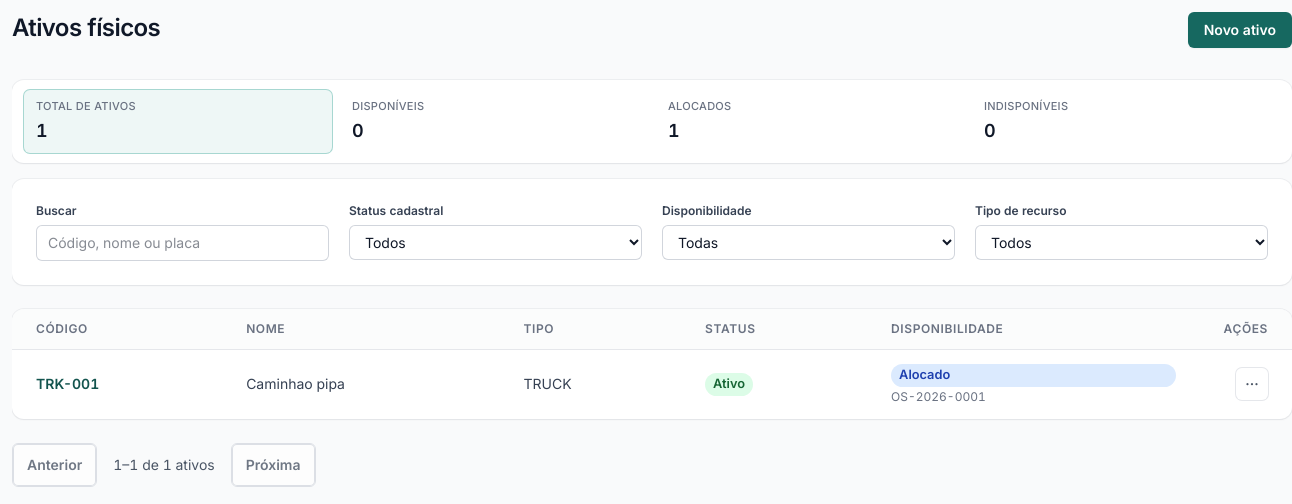
it: PhysicalAssetsListPage › shows filtered empty state after applying availability filter
Expected: the link "TRK-001" is shown, top-left (36, 375), bottom-right (99, 392)
Select "Indisponível" in the dropdown labelled "Disponibilidade" at coordinates (808, 242), box top-left (662, 224), bottom-right (955, 260)
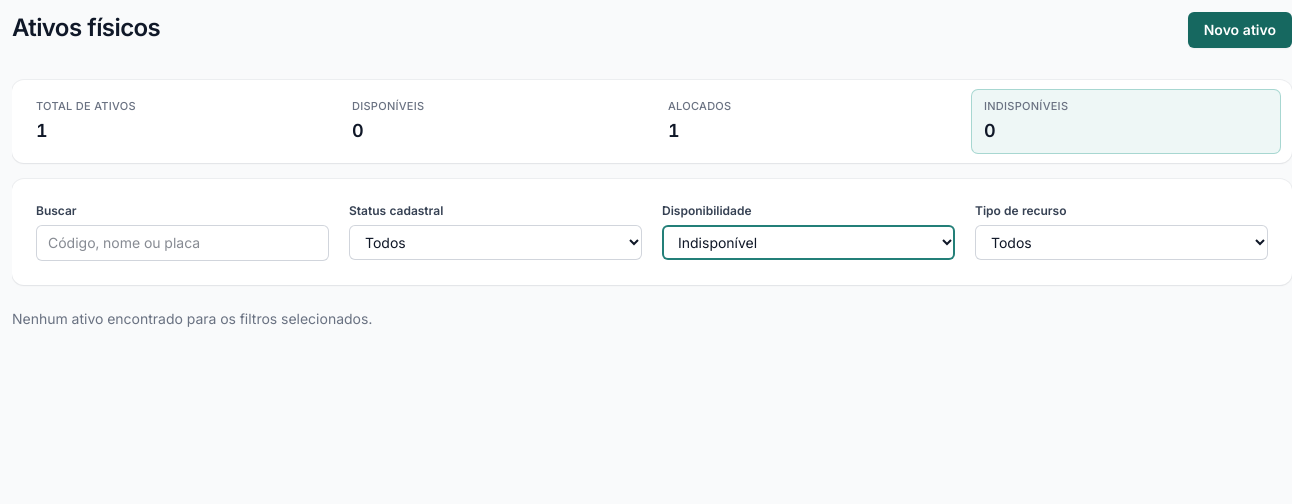
Now the text "Nenhum ativo encontrado para os filtros selecionados." is shown, box top-left (12, 310), bottom-right (372, 326)
